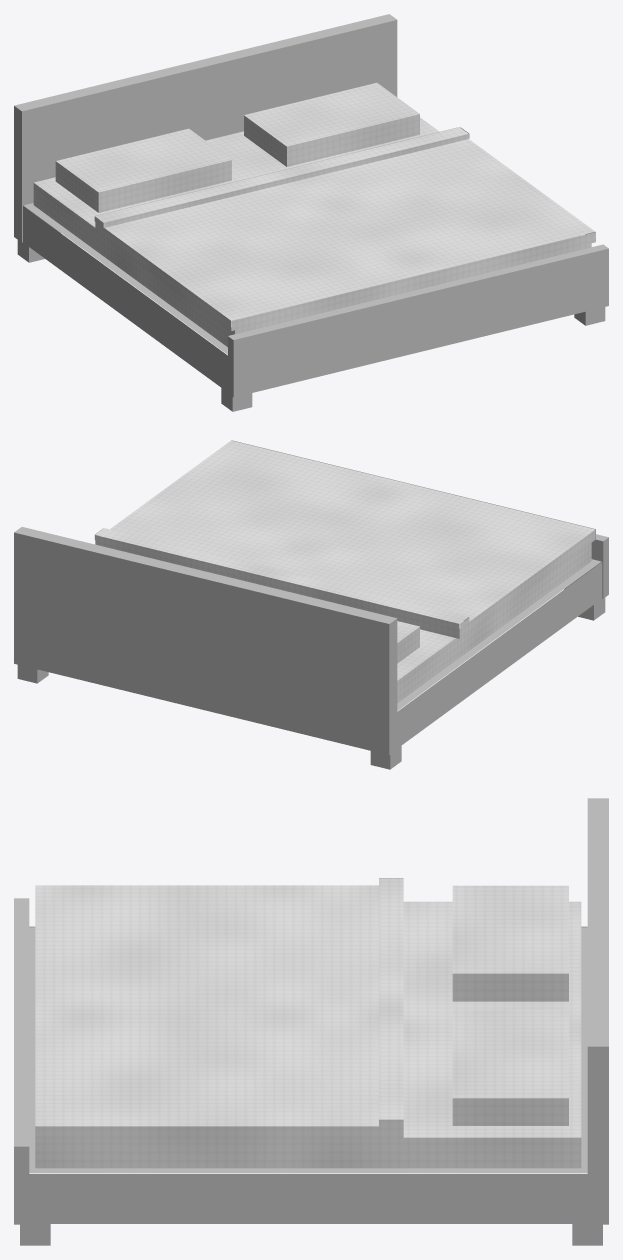
Rendered from bed_double.obj.
3 views of the same model, one above another, from view 1: azimuth 30°, elevation 25°; view 2: azimuth 150°, elevation 25°; view 3: azimuth 270°, elevation 25° (orthographic). The views are drawn at different scales.
Visible parts, largest first — view 1: bed_double; view 2: bed_double; view 3: bed_double.
Part boxes in pixels (x1,y1,x2,y2): bed_double: [14, 14, 608, 411]; bed_double: [14, 440, 608, 769]; bed_double: [14, 798, 608, 1245].
Bounding box in the file's own units: 1.92 × 0.72 × 1.94.
